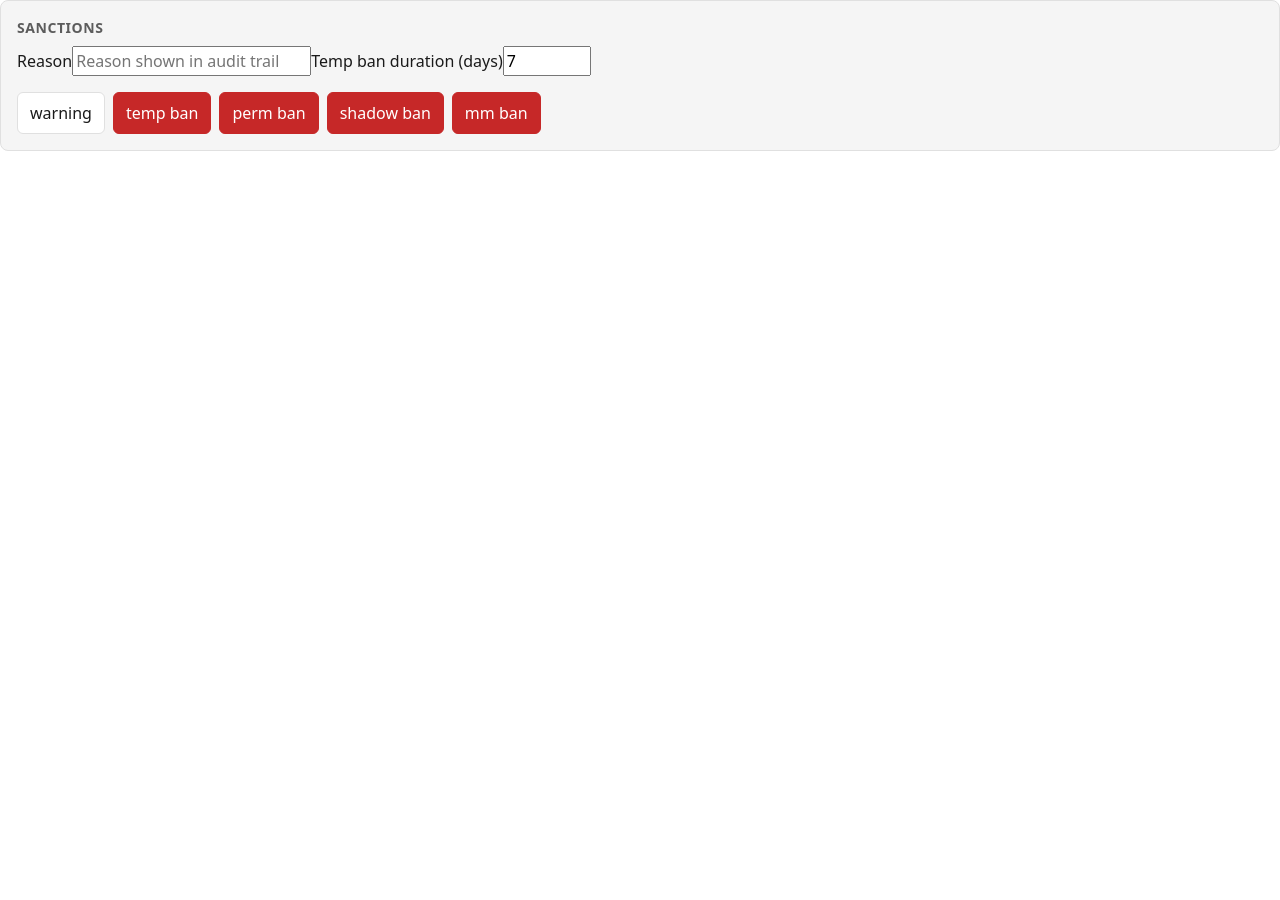
Scenario: SanctionActions confirm flow › closes dialog without applying when cancelled
The width and height of the screenshot is (1280, 900).
Step 1. Click the button with test id "sanction-shadow_ban" → (385, 113), box [327,92,444,134]
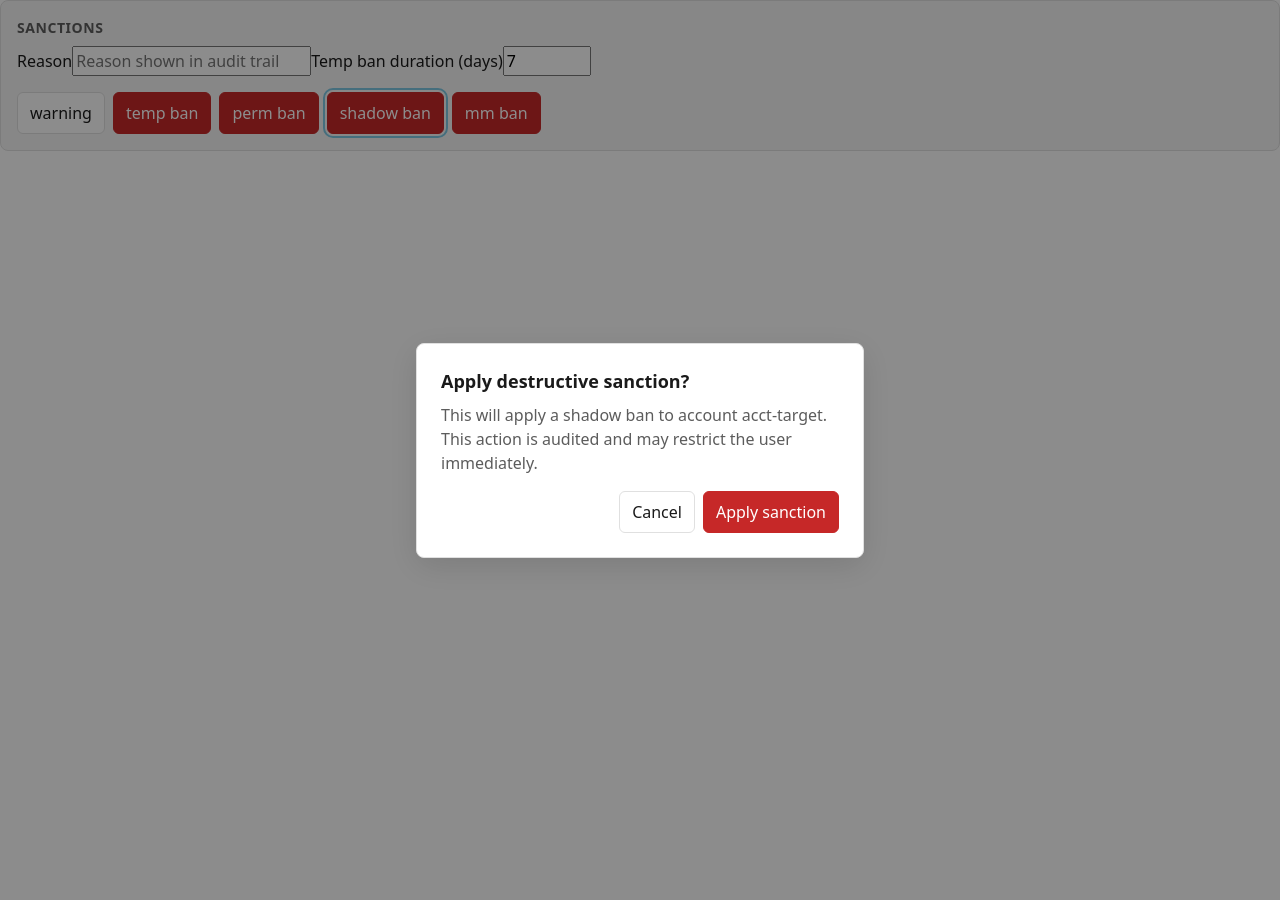
Expected: the dialog with test id "confirm-dialog" is shown, [416,342,864,558]
Step 2. Click the button "Cancel" → (657, 512), box [619,490,695,532]
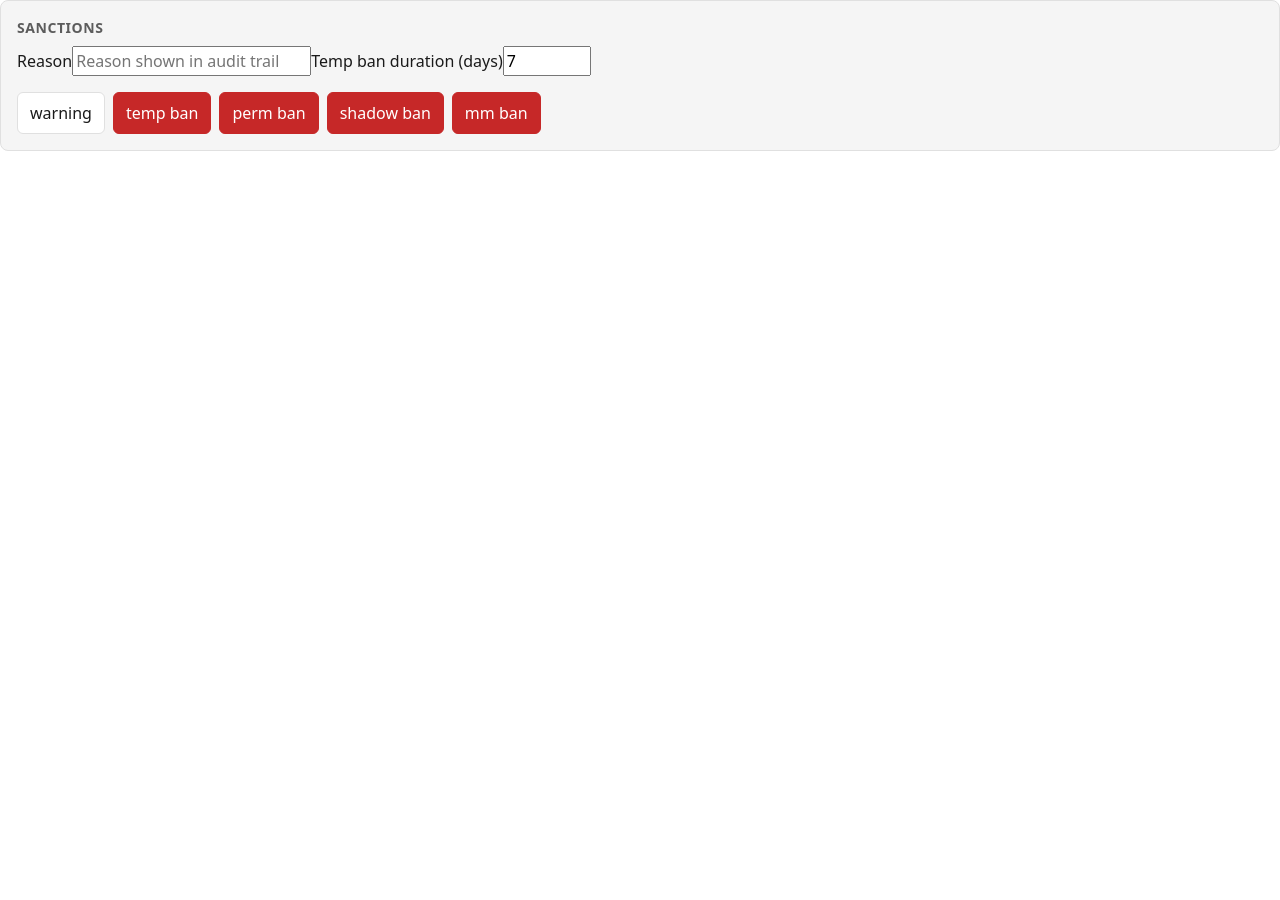
Expected: the dialog with test id "confirm-dialog" is gone
